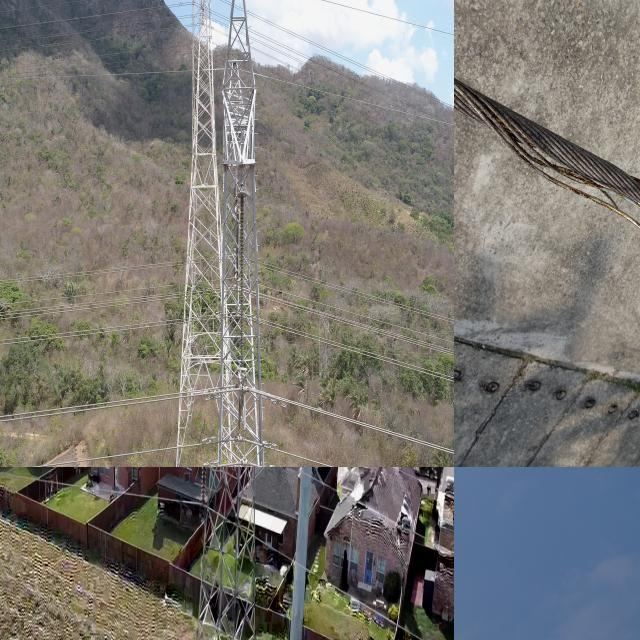杆塔: (171, 0, 239, 467), (214, 0, 269, 467), (187, 467, 262, 640)
正常绝缘子: (237, 190, 248, 373), (200, 467, 206, 504)
电缆破损: (480, 11, 640, 195)
